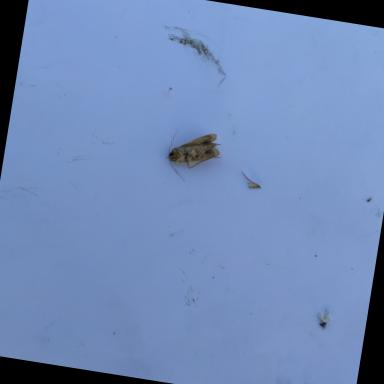abw: (160, 122, 228, 188)
